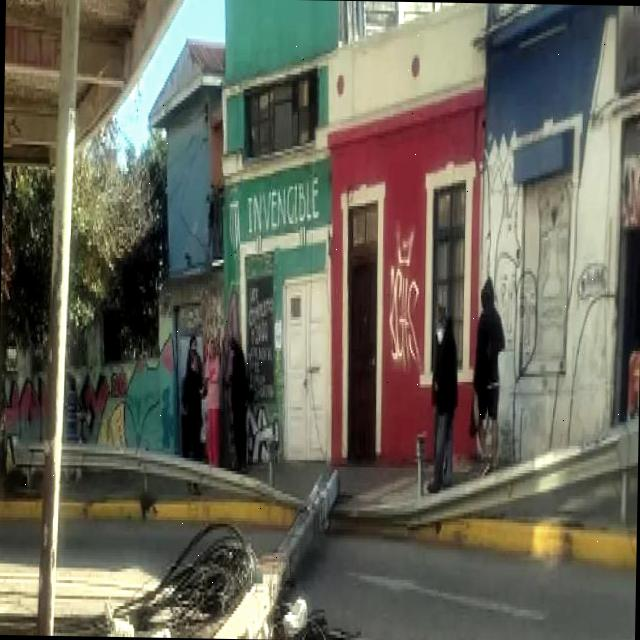Broken Pole: (213, 471, 339, 640)
